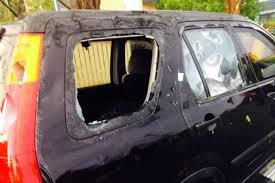doorouter-dent: (42, 11, 176, 146)
